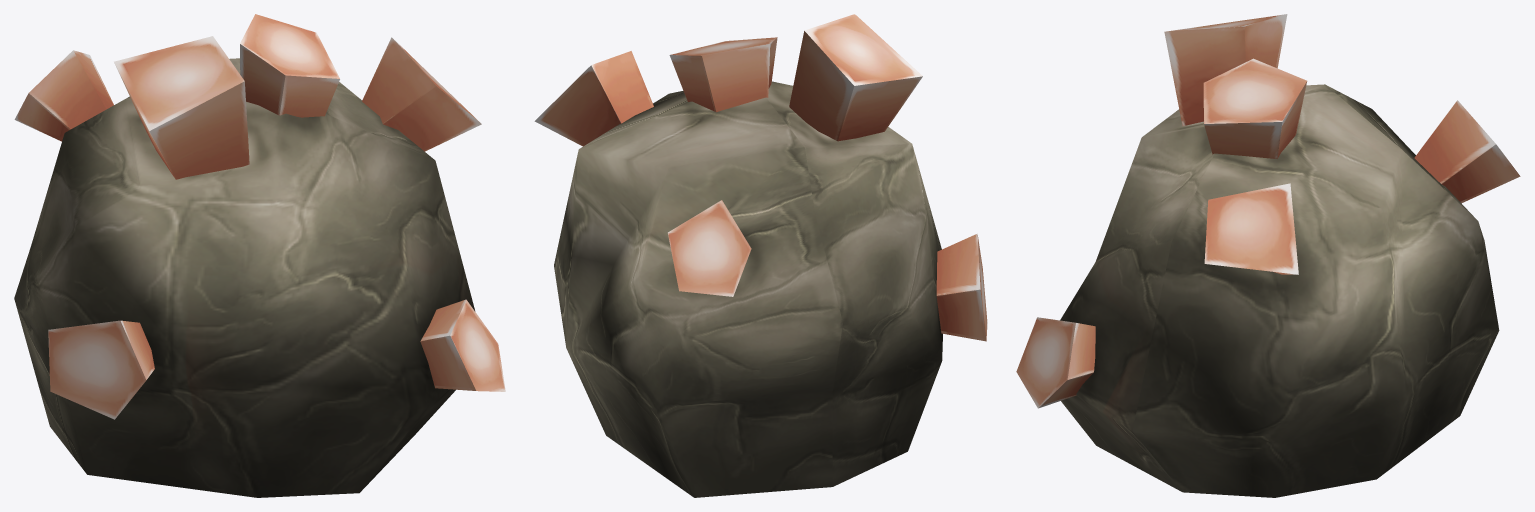
The model's file is ore_small_bronze.fbx.
The picture shows the model from 3 angles, left to right: view 1: azimuth 30°, elevation 25°; view 2: azimuth 150°, elevation 25°; view 3: azimuth 270°, elevation 25°; orthographic projection. The views are drawn at different scales.
Visible parts, largest first — view 1: ore_small_bronze:Mesh; view 2: ore_small_bronze:Mesh; view 3: ore_small_bronze:Mesh.
Boxes of the visible parts, x1=… form: ore_small_bronze:Mesh: x1=14, y1=14, x2=505, y2=497; ore_small_bronze:Mesh: x1=534, y1=14, x2=987, y2=497; ore_small_bronze:Mesh: x1=1016, y1=14, x2=1520, y2=497.
Bounding box in the file's own units: 3.71 × 3.36 × 3.96.
